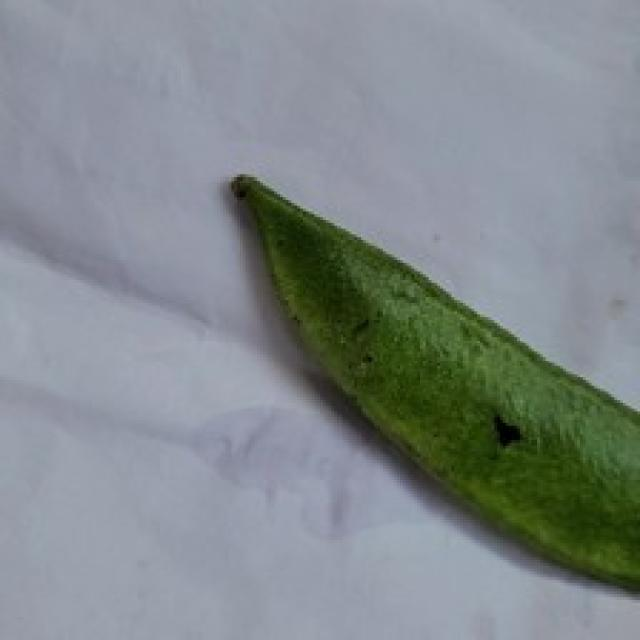Bean: (226, 168, 637, 606)
